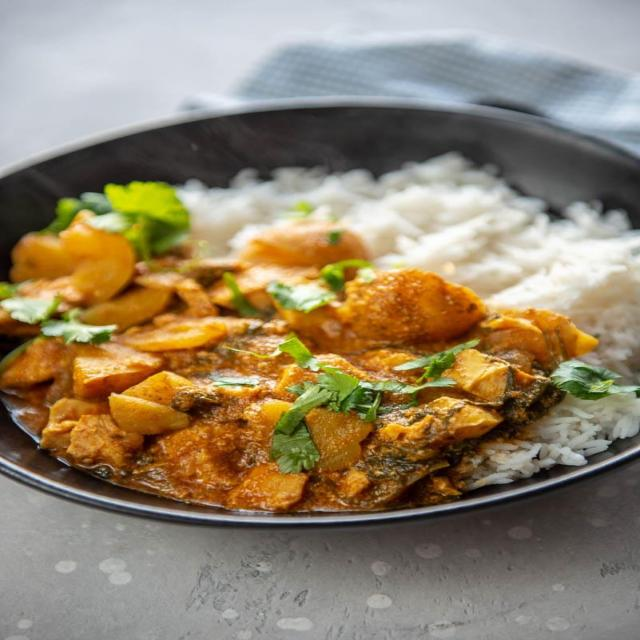chicken: (0, 241, 590, 515)
rice: (148, 89, 640, 251)
